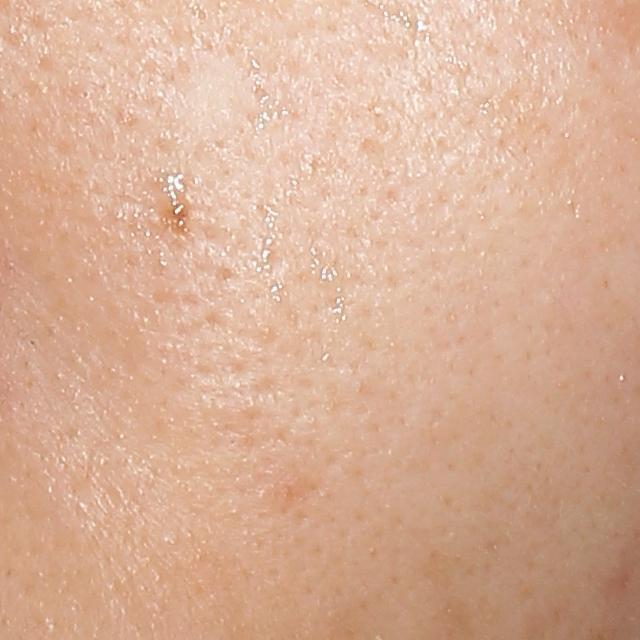nevus: (160, 174, 198, 240)
